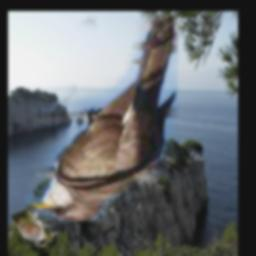Cuckoo: (27, 16, 179, 222), (13, 209, 55, 248)
